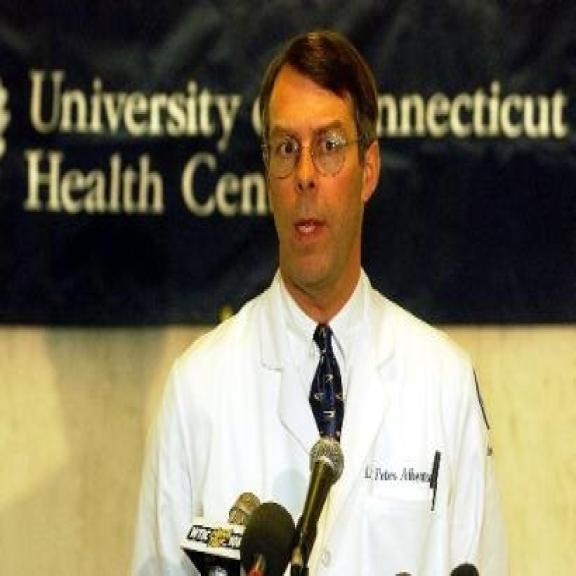face: (262, 55, 380, 291)
